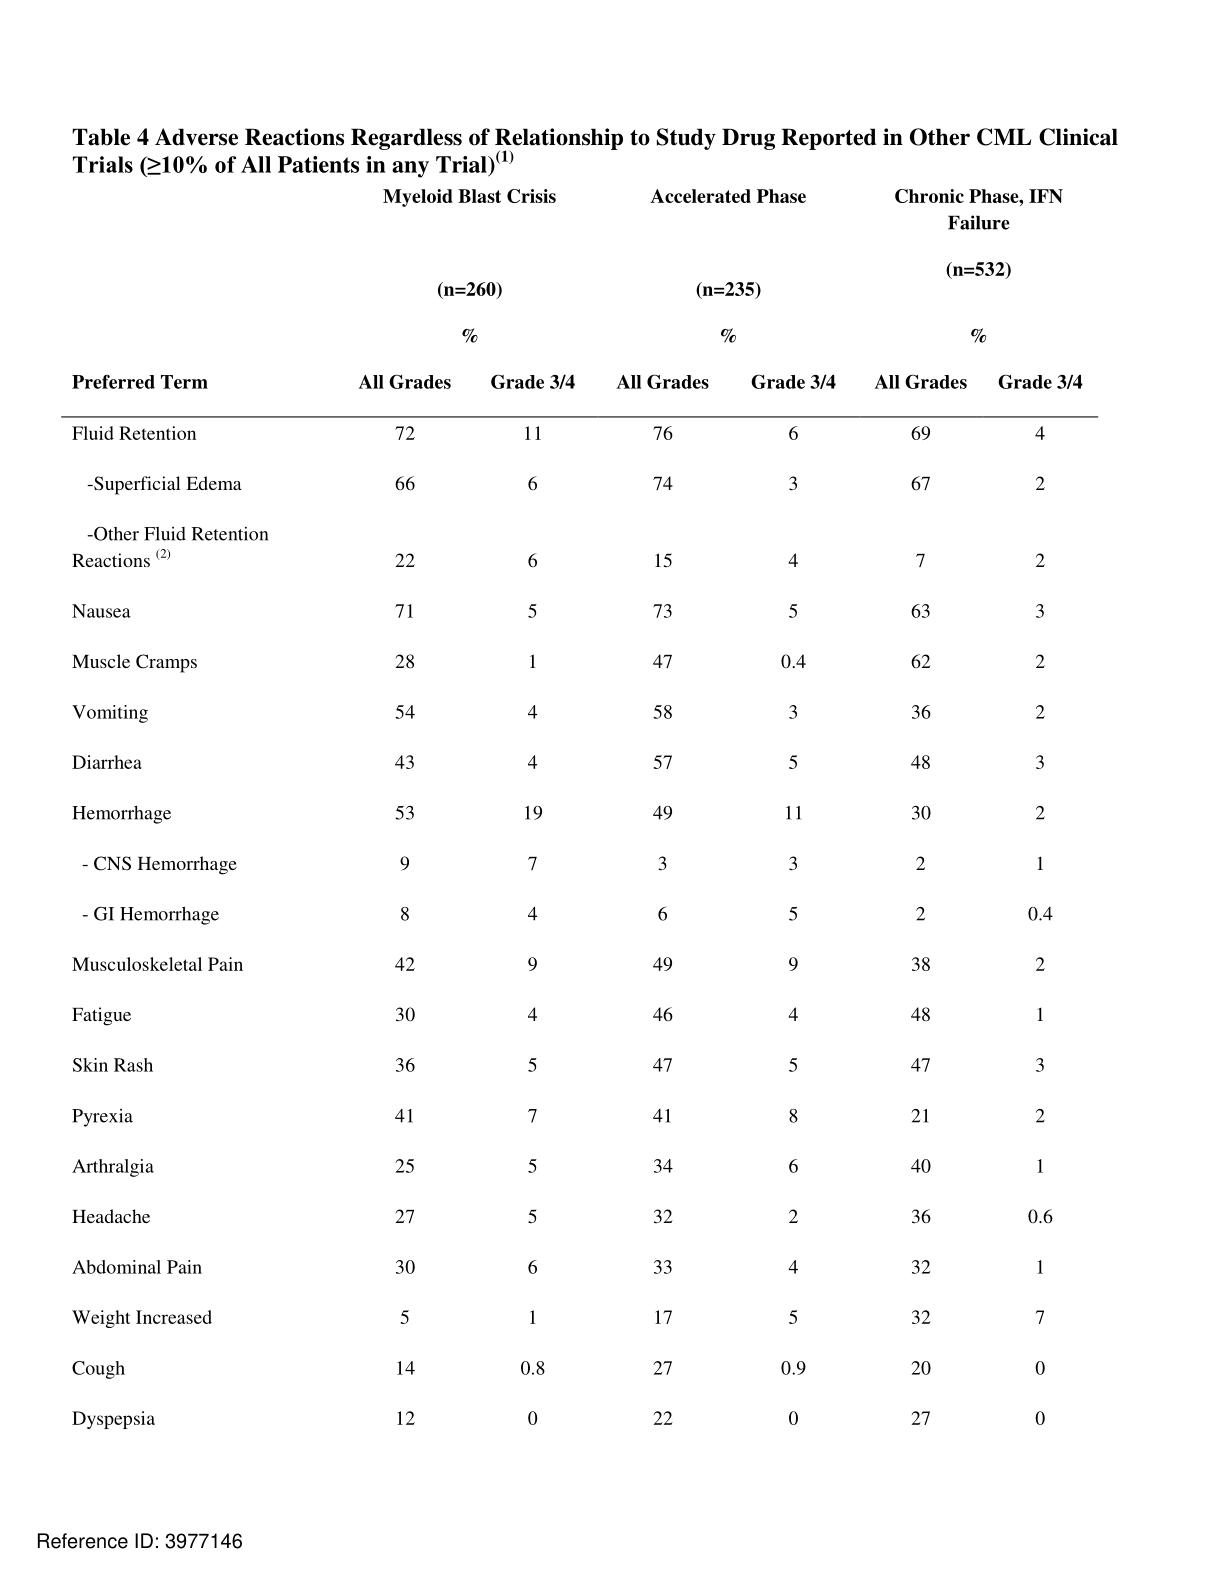partial_lined_merged_cells: (58, 183, 1101, 1436)
